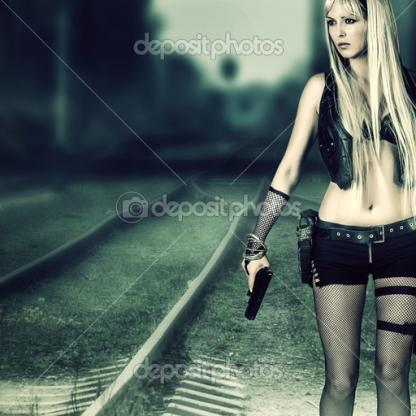gun: (228, 240, 284, 322)
